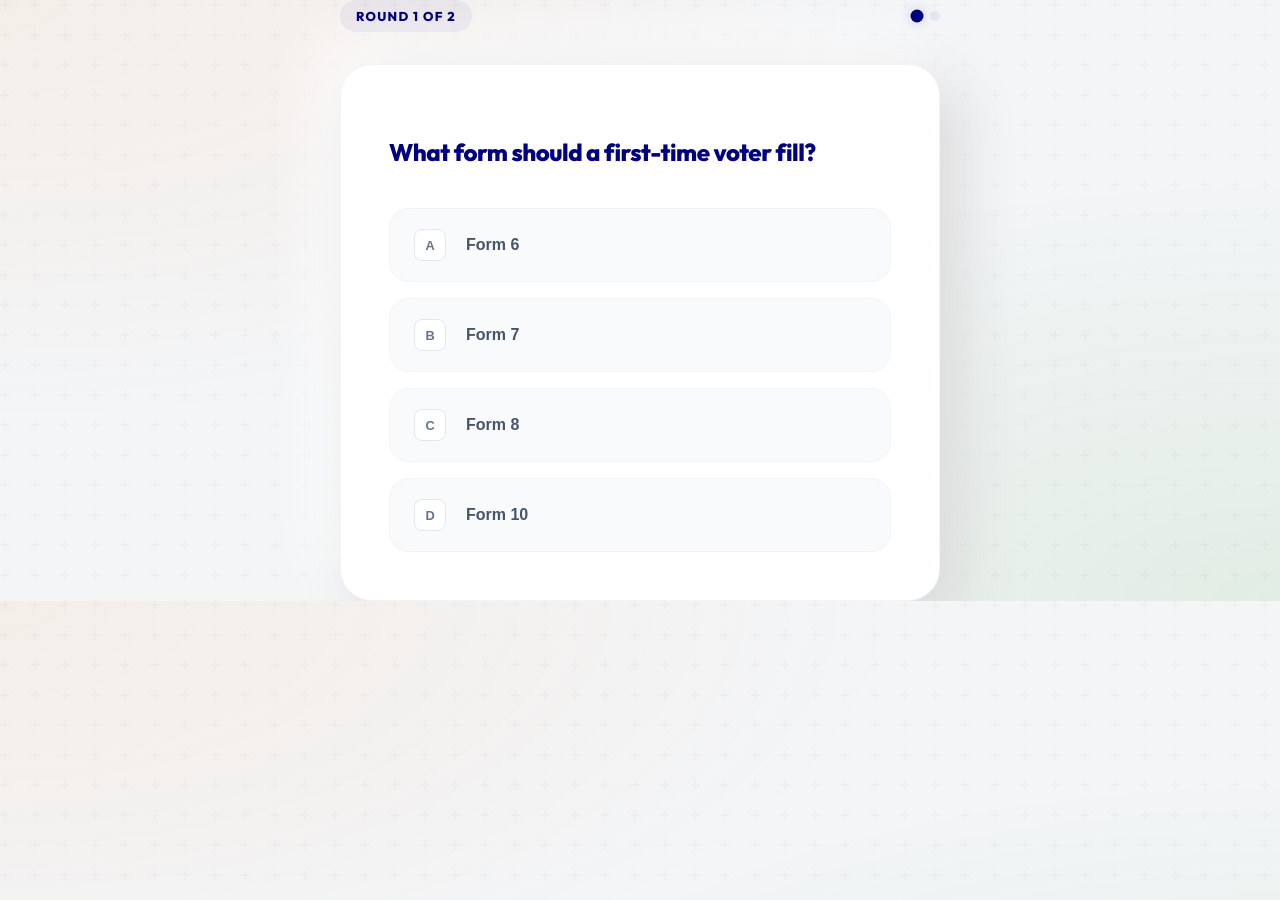
it: ElectionQuiz Component › should show explanation when clicking the correct answer
This screenshot has width=1280, height=900.
Click the text "Form 6".
click(493, 245)  # box [466,236,519,254]
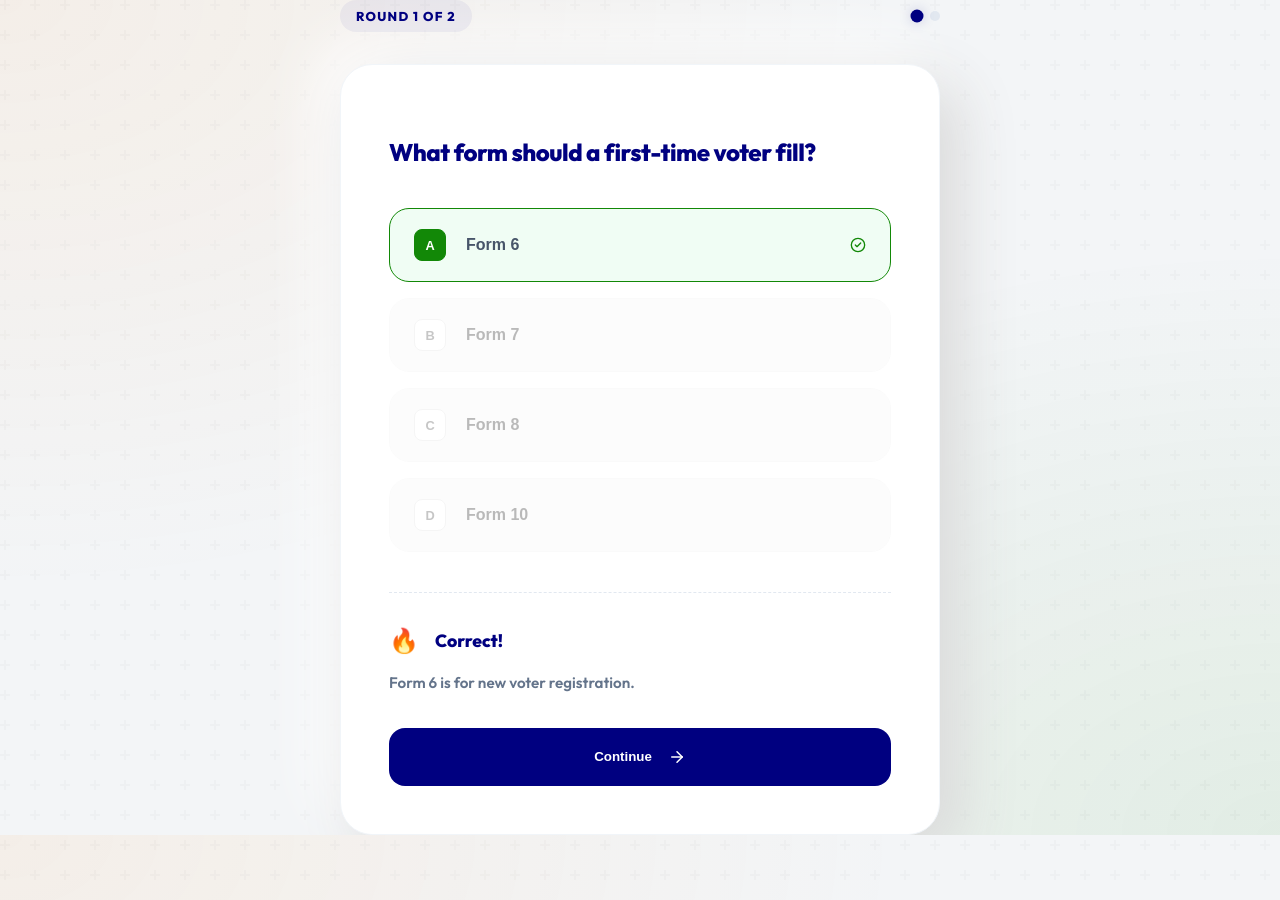
Result: the text "Correct!" is shown at [435,629,503,652]
Result: the text "Form 6 is for new voter registration." is shown at [389,673,635,692]
